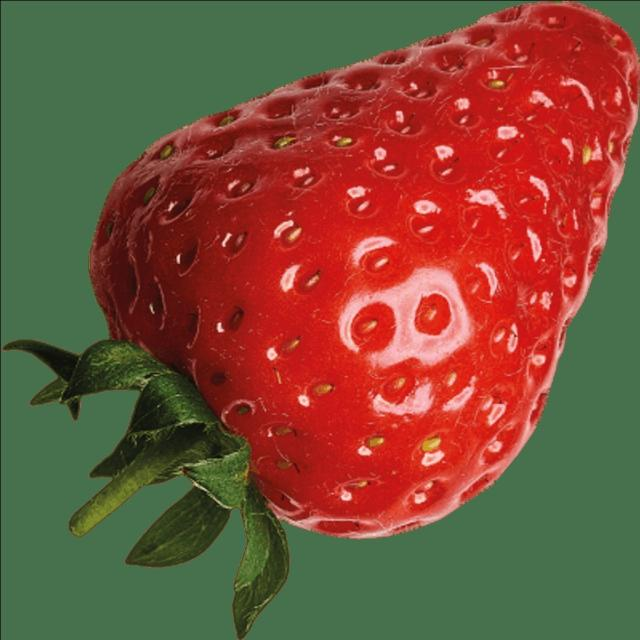strawberry: (31, 0, 636, 640)
